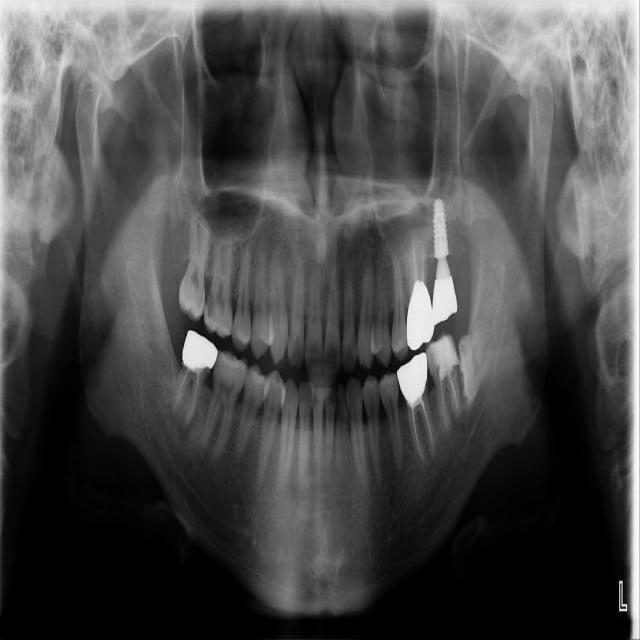52: (171, 329, 224, 383), (419, 329, 466, 384), (394, 351, 435, 406), (402, 292, 437, 351), (432, 274, 458, 327)
73: (164, 365, 209, 431), (432, 363, 466, 437), (405, 390, 438, 464), (407, 235, 428, 299), (586, 548, 590, 554)
BioHorizons Implant: (406, 236, 435, 350)
Biomet 3i Implant: (455, 316, 494, 409)
Blue Sky Bio Implant: (421, 329, 476, 437)
Caries: (177, 212, 210, 323)
Keystone Dental Implant: (163, 329, 222, 432)
